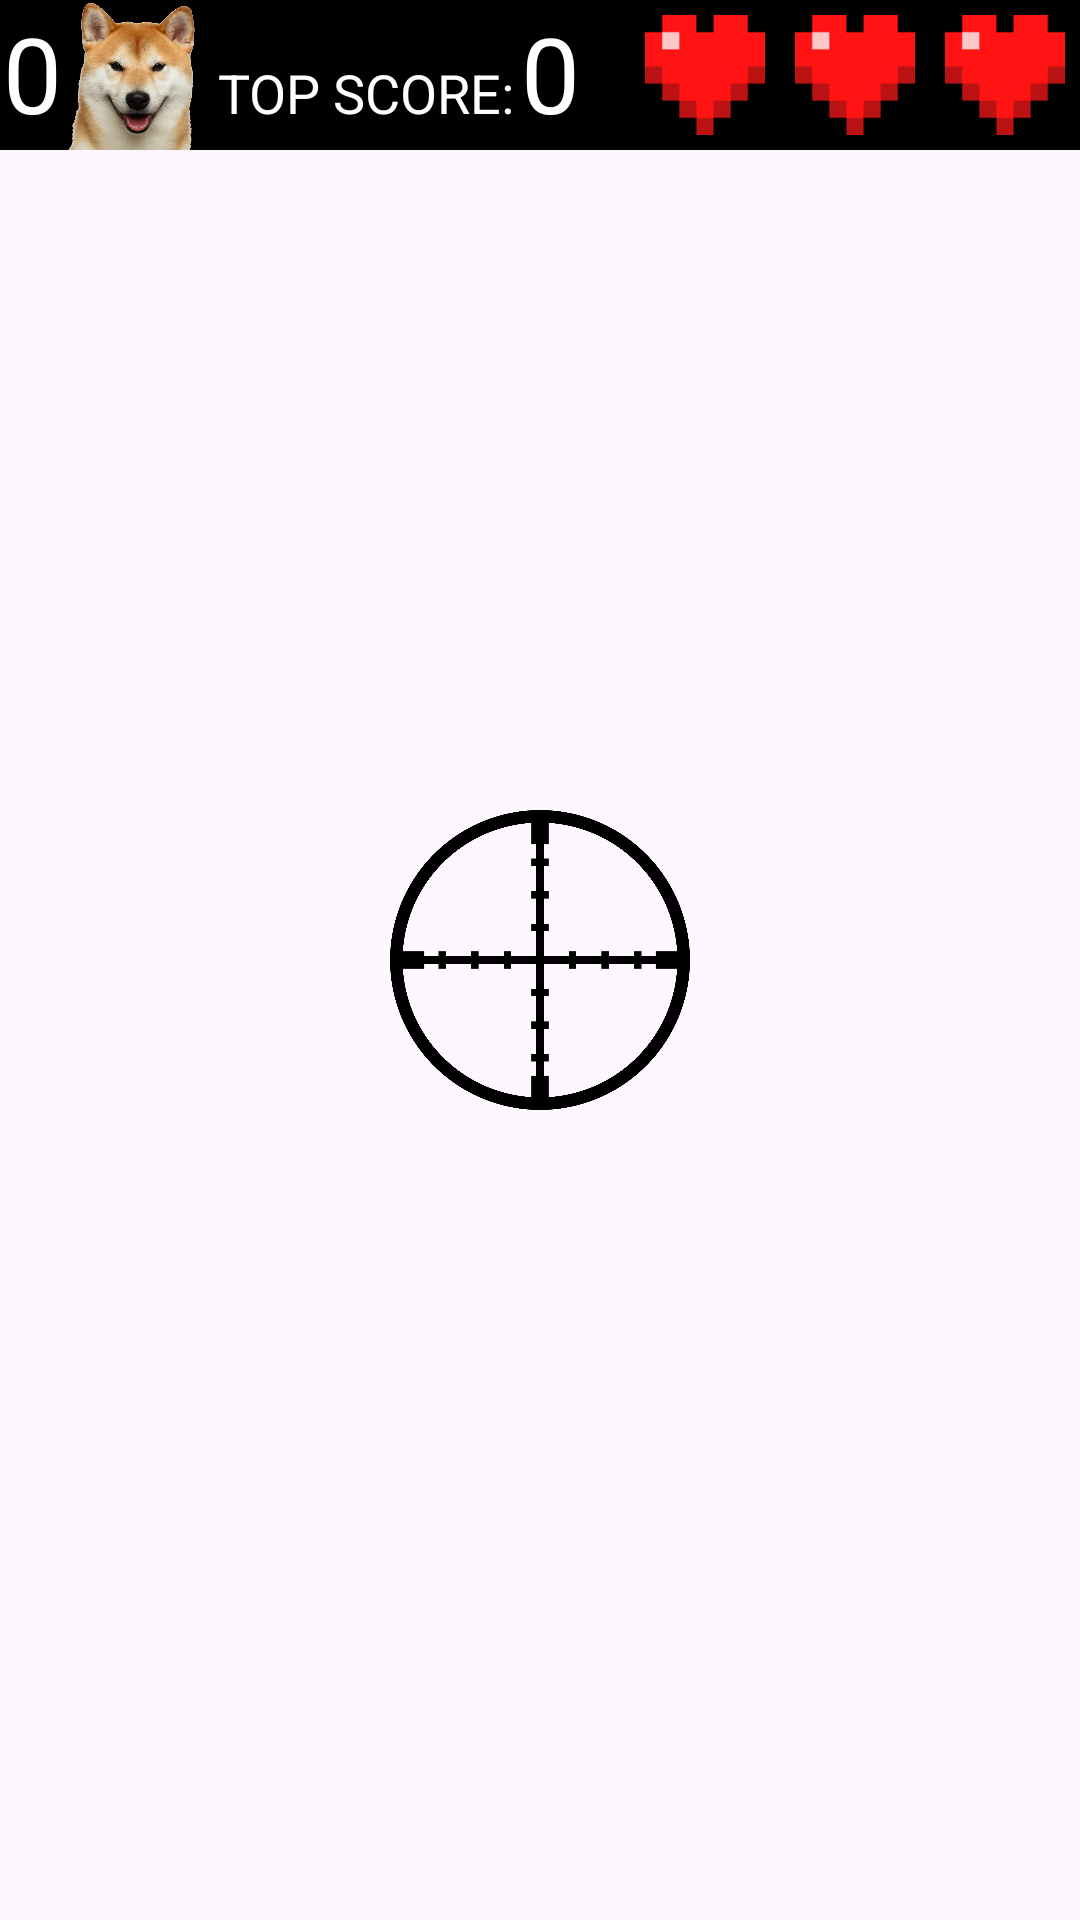

Named icons in this screenshot (1080 × 1920) and their centers, [x,y]:
crosshair: [540,960]
heart: [705,75], [855,75], [1005,75]
